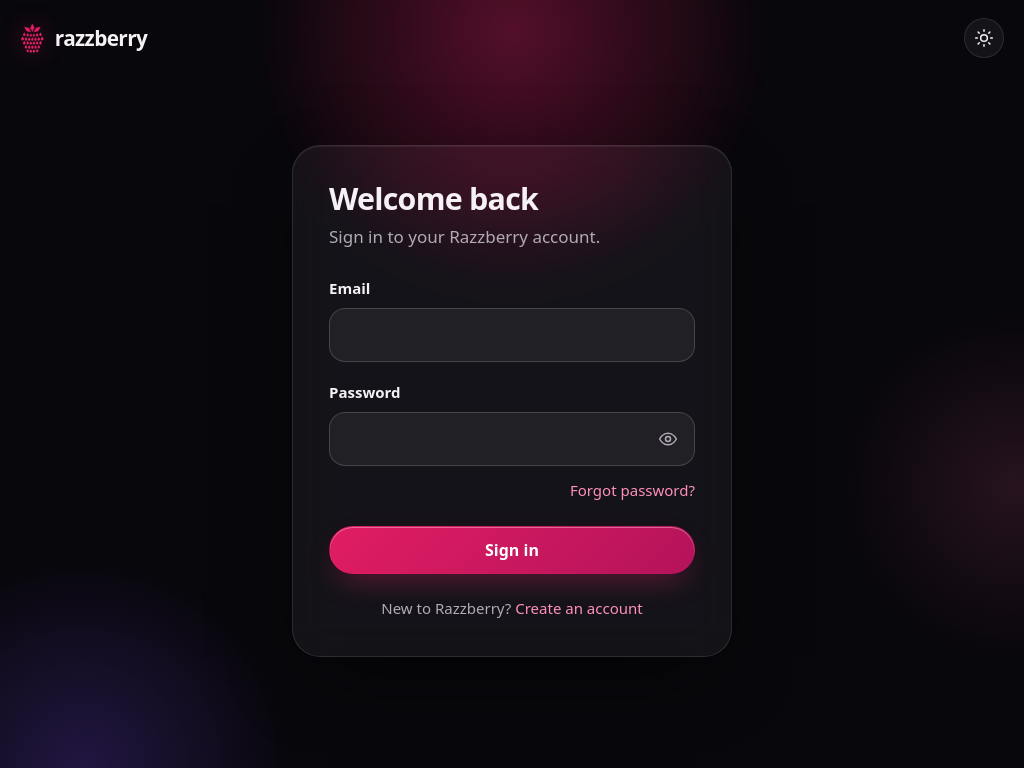
Test: sign in › submits credentials and maps Firebase errors to plain language
In the field labelled "Email": (512, 335) [329,308,695,362], type "ada@example.com"
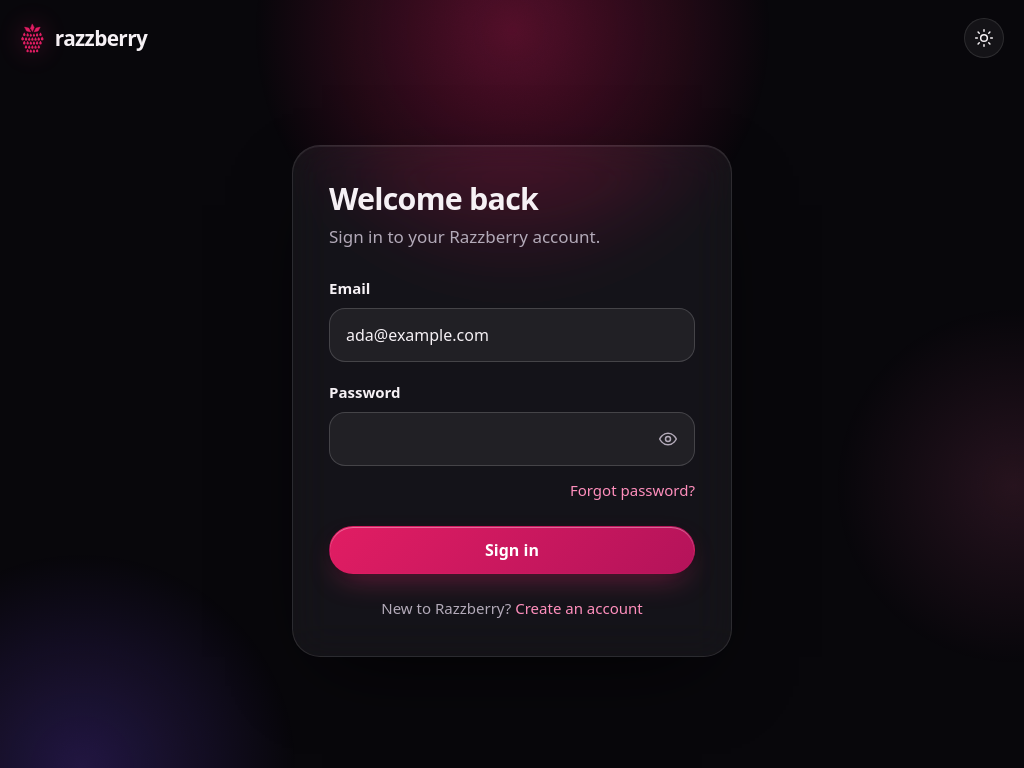
In the password field labelled "Password": (512, 439) [329,412,695,466], type "wrong-password"
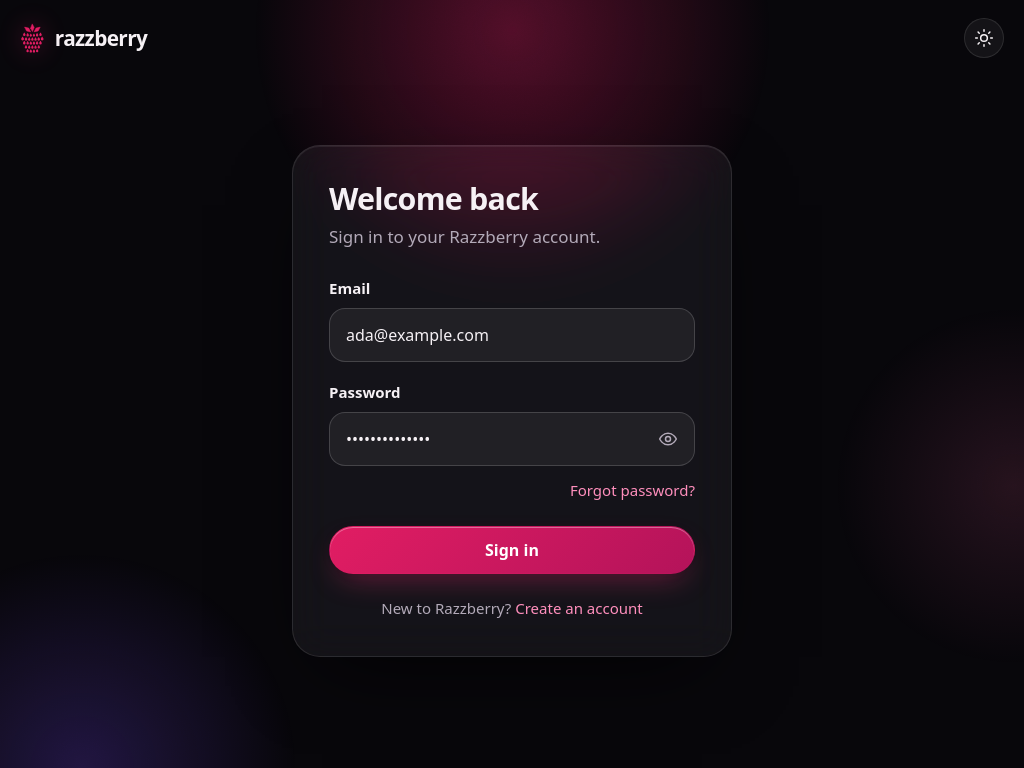
Click the button "Sign in": (512, 550) [329,526,695,574]
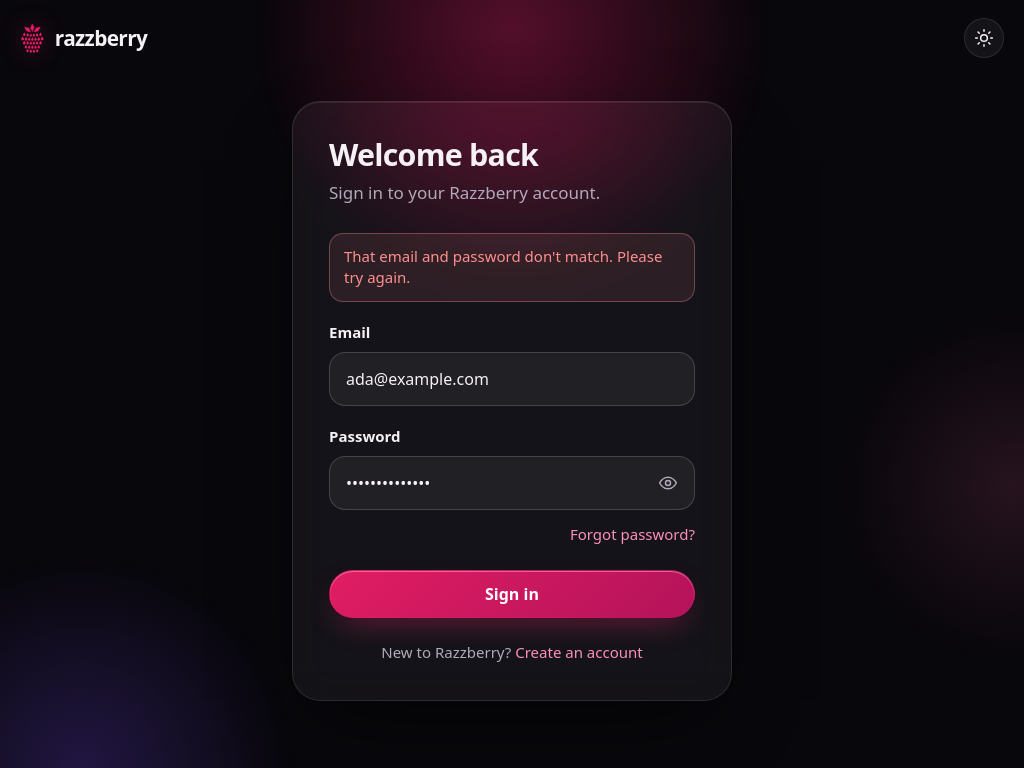
Expected: the text "That email and password don't match. Please try again." is shown, [329,233,695,302]
